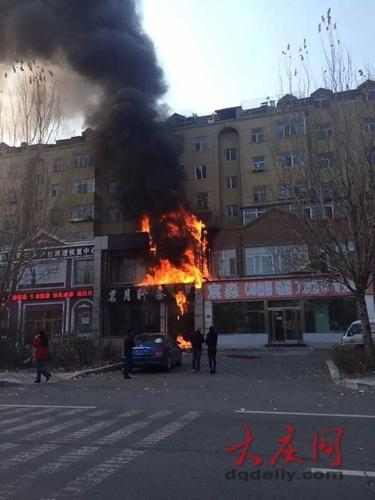fire: (127, 205, 217, 320), (173, 331, 195, 350)
